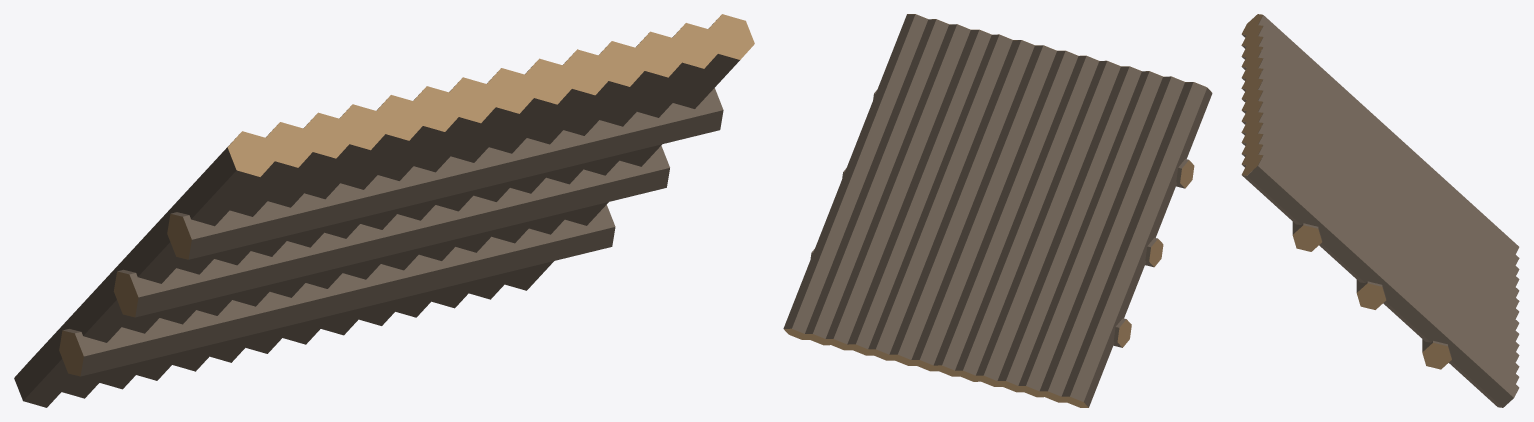
The model's file is build_ramp.glb.
The picture shows the model from 3 angles, left to right: view 1: azimuth 30°, elevation 25°; view 2: azimuth 150°, elevation 25°; view 3: azimuth 270°, elevation 25°; orthographic projection. The views are drawn at different scales.
Parts seen in each view (by area): view 1: pCylinder590_Legno03_Mat_0, pCylinder590_Legno02_Mat_0; view 2: pCylinder590_Legno03_Mat_0, pCylinder590_Legno02_Mat_0; view 3: pCylinder590_Legno03_Mat_0, pCylinder590_Legno02_Mat_0.
Part boxes in pixels (bbox=[...]): pCylinder590_Legno03_Mat_0: bbox=[14, 20, 739, 407]; pCylinder590_Legno02_Mat_0: bbox=[59, 14, 754, 376]; pCylinder590_Legno03_Mat_0: bbox=[783, 14, 1212, 407]; pCylinder590_Legno02_Mat_0: bbox=[784, 14, 1211, 407]; pCylinder590_Legno03_Mat_0: bbox=[1242, 15, 1519, 407]; pCylinder590_Legno02_Mat_0: bbox=[1241, 14, 1451, 369].
Size of the model in its own units: 4.07 by 3.07 by 3.07.
